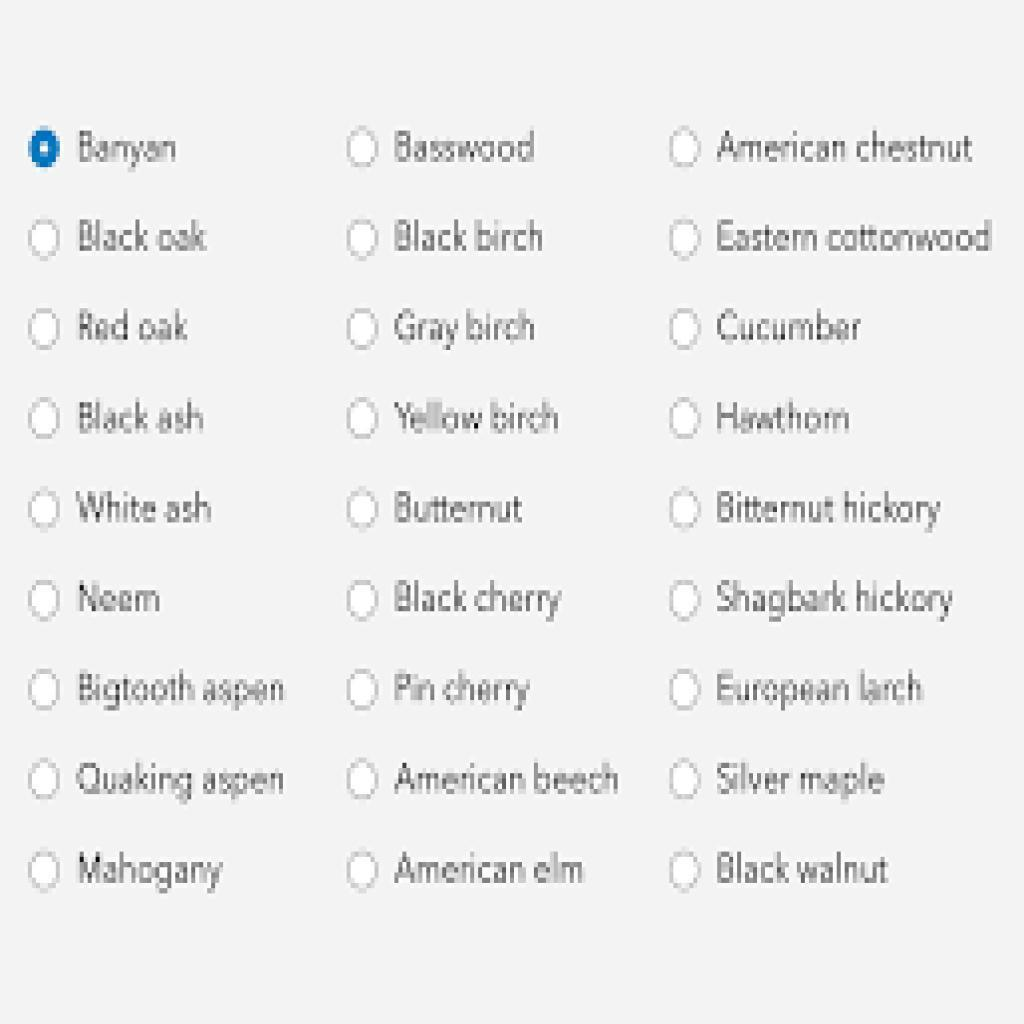radio: (343, 125, 382, 172), (345, 487, 383, 535), (668, 847, 706, 895), (27, 125, 64, 174), (28, 484, 64, 534), (28, 846, 65, 894), (667, 579, 706, 624), (667, 217, 705, 263), (346, 397, 383, 444), (27, 307, 62, 356), (669, 668, 706, 714), (28, 578, 64, 625), (669, 123, 704, 171), (668, 757, 706, 801), (667, 489, 704, 534), (346, 217, 381, 264), (667, 399, 705, 442), (27, 758, 64, 802), (346, 757, 382, 802), (346, 850, 382, 895), (27, 397, 63, 442), (346, 580, 382, 624), (669, 309, 705, 353), (28, 668, 63, 713), (347, 309, 382, 351), (30, 218, 64, 261), (348, 669, 380, 712)
